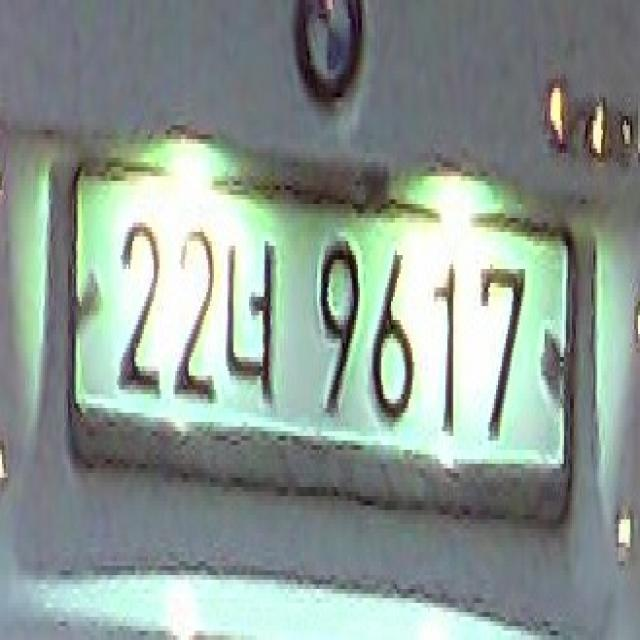1: (429, 249, 461, 439)
2: (113, 216, 167, 398), (170, 216, 220, 406)
6: (366, 233, 420, 431)
7: (471, 249, 532, 449)
9: (307, 225, 366, 417)
license_plate: (76, 169, 569, 466)
neo: (225, 229, 283, 411)
